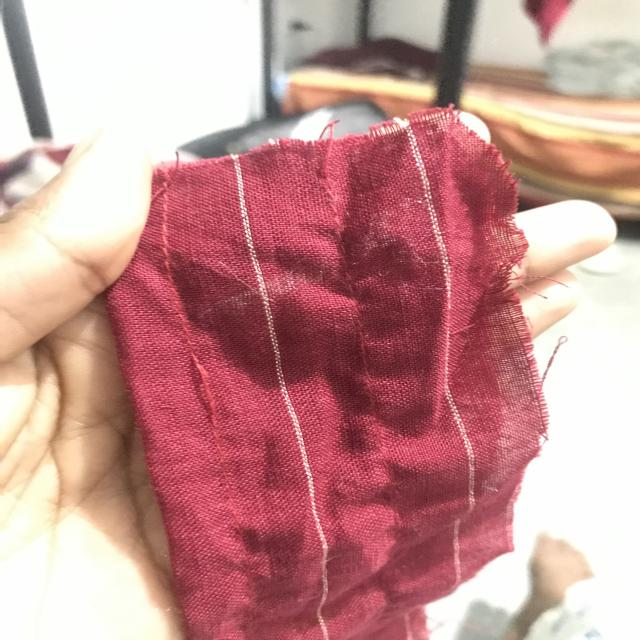skip: (167, 350, 242, 434)
